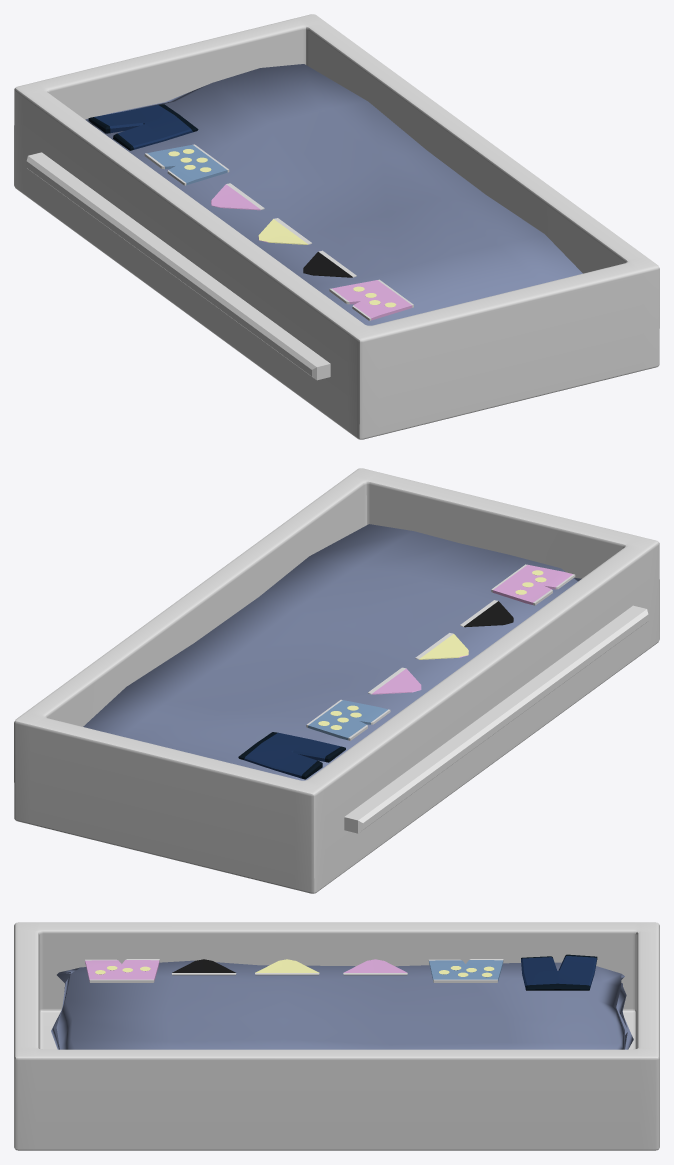
The model's file is livingroomDrawer3.fbx.
3 views of the same model, one above another, from view 1: azimuth 30°, elevation 25°; view 2: azimuth 150°, elevation 25°; view 3: azimuth 270°, elevation 25° (orthographic). The views are drawn at different scales.
Visible parts, largest first — view 1: pCube4, polySurface67, pCube14, pCube6, pCube11, pCube7, pCube10, pCube8, pCube9; view 2: pCube4, polySurface67, pCube14, pCube6, pCube11, pCube7, pCube8, pCube9, pCube10; view 3: pCube4, polySurface67, pCube6, pCube11, pCube7, pCube9, pCube8, pCube10.
Boxes of the visible parts, left/top/right/bottom form: pCube4: left=14, top=14, right=659, bottom=439; polySurface67: left=85, top=64, right=582, bottom=325; pCube14: left=26, top=152, right=330, bottom=380; pCube6: left=88, top=104, right=198, bottom=150; pCube11: left=329, top=279, right=413, bottom=320; pCube7: left=144, top=144, right=229, bottom=185; pCube10: left=303, top=250, right=356, bottom=277; pCube8: left=211, top=183, right=264, bottom=210; pCube9: left=258, top=218, right=311, bottom=244; pCube4: left=14, top=468, right=659, bottom=893; polySurface67: left=83, top=524, right=581, bottom=780; pCube14: left=344, top=605, right=648, bottom=833; pCube6: left=238, top=732, right=345, bottom=779; pCube11: left=491, top=564, right=575, bottom=605; pCube7: left=306, top=699, right=390, bottom=740; pCube8: left=368, top=667, right=421, bottom=694; pCube9: left=415, top=633, right=468, bottom=659; pCube10: left=460, top=600, right=513, bottom=627; pCube4: left=14, top=922, right=659, bottom=1150; polySurface67: left=51, top=960, right=633, bottom=1049; pCube6: left=521, top=954, right=597, bottom=990; pCube11: left=85, top=959, right=159, bottom=982; pCube7: left=428, top=959, right=503, bottom=982; pCube9: left=255, top=959, right=319, bottom=975; pCube8: left=343, top=959, right=407, bottom=975; pCube10: left=171, top=959, right=236, bottom=975.
Bounding box in the file's own units: 539 × 165 × 1015.
